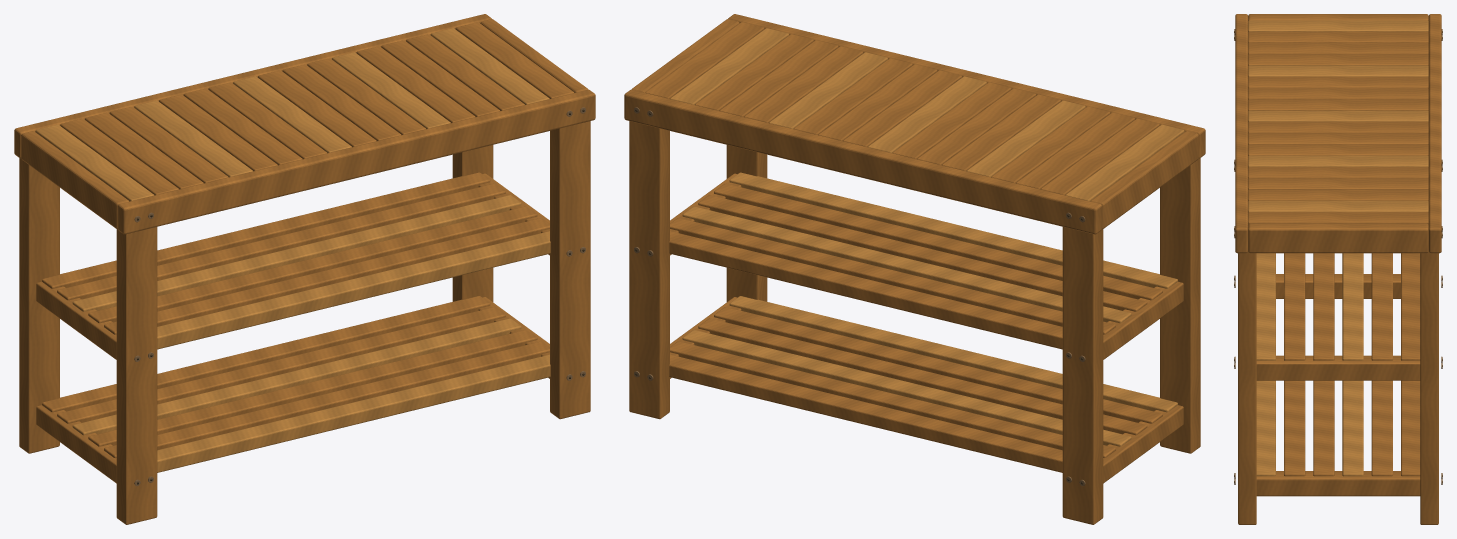
The model's file is songmics-bamboo-shoe-bench.glb.
The picture shows the model from 3 angles, left to right: view 1: azimuth 30°, elevation 25°; view 2: azimuth 150°, elevation 25°; view 3: azimuth 270°, elevation 25°; orthographic projection. The views are drawn at different scales.
Parts seen in each view (by area): view 1: Seat long frame, Bamboo corner post, Bamboo corner post.002, Bamboo corner post.001, Shelf 0 long bamboo slat 0, Shelf 1 long bamboo slat 0, Shelf 1 long bamboo slat 1, Shelf 0 long bamboo slat 1, Shelf 1 long bamboo slat 2, Shelf 0 long bamboo slat 3, Shelf 1 long bamboo slat 3, Shelf 0 long bamboo slat 2 (+28 smaller); view 2: Seat long frame.001, Bamboo corner post.001, Bamboo corner post.003, Bamboo corner post, Shelf 0 long bamboo slat 5, Shelf 1 long bamboo slat 5, Shelf 1 long bamboo slat 4, Shelf 0 long bamboo slat 4, Shelf 1 long bamboo slat 3, Shelf 0 long bamboo slat 2, Shelf 1 long bamboo slat 2, Shelf 0 long bamboo slat 3 (+28 smaller); view 3: Seat side frame.001, Bamboo corner post.002, Bamboo corner post.003, Shelf end rail.001, Shelf end rail.003, Seat long frame, Seat long frame.001, Shelf 1 long bamboo slat 2, Shelf 1 long bamboo slat 3, Shelf 1 long bamboo slat 1, Shelf 1 long bamboo slat 4, Seat bamboo slat 17 (+27 smaller).
Boxes of the visible parts, x1,y1,x2,y2 form: Seat long frame: (118, 89, 595, 234); Bamboo corner post: (116, 227, 157, 524); Bamboo corner post.002: (550, 121, 590, 419); Bamboo corner post.001: (19, 158, 59, 453); Shelf 0 long bamboo slat 0: (157, 354, 550, 472); Shelf 1 long bamboo slat 0: (157, 231, 550, 349); Shelf 1 long bamboo slat 1: (104, 218, 549, 334); Shelf 0 long bamboo slat 1: (104, 341, 549, 458); Shelf 1 long bamboo slat 2: (88, 206, 537, 323); Shelf 0 long bamboo slat 3: (72, 318, 521, 435); Shelf 1 long bamboo slat 3: (72, 195, 521, 311); Shelf 0 long bamboo slat 2: (88, 330, 537, 446); Seat long frame.001: (624, 89, 1101, 234); Bamboo corner post.001: (1062, 227, 1103, 524); Bamboo corner post.003: (629, 121, 669, 419); Bamboo corner post: (1160, 158, 1200, 453); Shelf 0 long bamboo slat 5: (669, 354, 1062, 472); Shelf 1 long bamboo slat 5: (669, 231, 1062, 349); Shelf 1 long bamboo slat 4: (670, 218, 1115, 334); Shelf 0 long bamboo slat 4: (670, 341, 1115, 458); Shelf 1 long bamboo slat 3: (682, 206, 1131, 323); Shelf 0 long bamboo slat 2: (698, 318, 1147, 435); Shelf 1 long bamboo slat 2: (698, 195, 1147, 311); Shelf 0 long bamboo slat 3: (682, 330, 1131, 446); Seat side frame.001: (1248, 223, 1428, 253); Bamboo corner post.002: (1238, 251, 1256, 524); Bamboo corner post.003: (1420, 251, 1438, 524); Shelf end rail.001: (1256, 471, 1420, 496); Shelf end rail.003: (1256, 355, 1420, 380); Seat long frame: (1235, 14, 1248, 253); Seat long frame.001: (1428, 14, 1441, 253); Shelf 1 long bamboo slat 2: (1313, 253, 1334, 360); Shelf 1 long bamboo slat 3: (1342, 253, 1363, 360); Shelf 1 long bamboo slat 1: (1284, 253, 1305, 360); Shelf 1 long bamboo slat 4: (1371, 253, 1392, 360); Seat bamboo slat 17: (1248, 212, 1428, 224).
Size of the model in its own units: 0.701 by 0.4521 by 0.287.
Materials: 4 (2 with a texture image).
